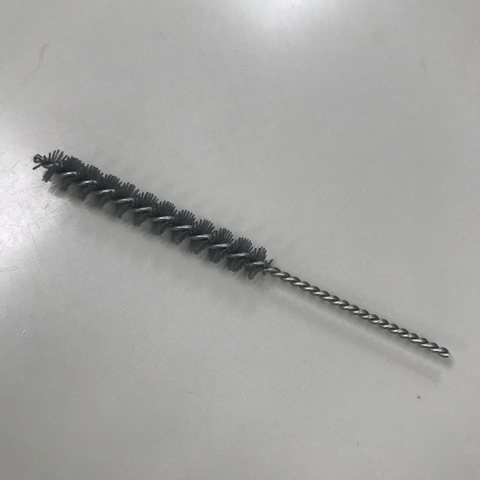Twist Brush-A: (32, 145, 454, 362)
